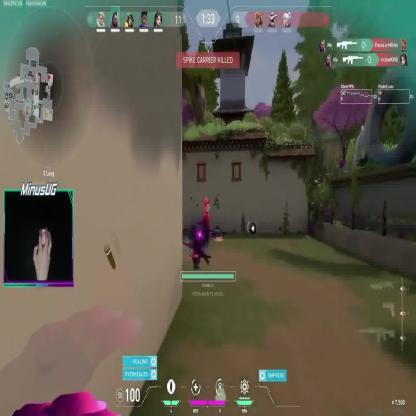enemy: (201, 196, 212, 241)
enemy_head: (204, 196, 210, 206)
